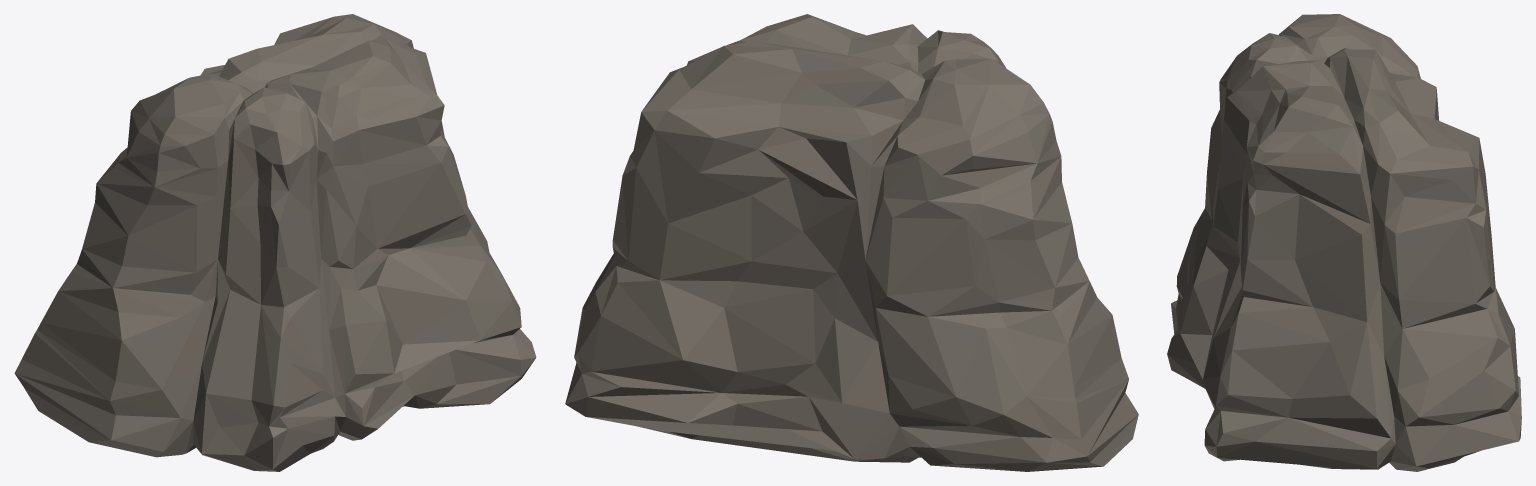
File: SM_Env_Rock_Large_02.glb
3 views of the same model, side by side, from view 1: azimuth 30°, elevation 25°; view 2: azimuth 150°, elevation 25°; view 3: azimuth 270°, elevation 25° (orthographic). The views are drawn at different scales.
Visible parts, largest first — view 1: SM_Env_Rock_Large_02_part00; view 2: SM_Env_Rock_Large_02_part00; view 3: SM_Env_Rock_Large_02_part00.
Part boxes in pixels (x1,y1,x2,y2): SM_Env_Rock_Large_02_part00: (14, 14, 536, 471); SM_Env_Rock_Large_02_part00: (565, 14, 1138, 471); SM_Env_Rock_Large_02_part00: (1167, 14, 1521, 471).
Bounding box in the file's own units: 5.46 × 3.83 × 3.73.
Materials: 1 (1 with a texture image).
